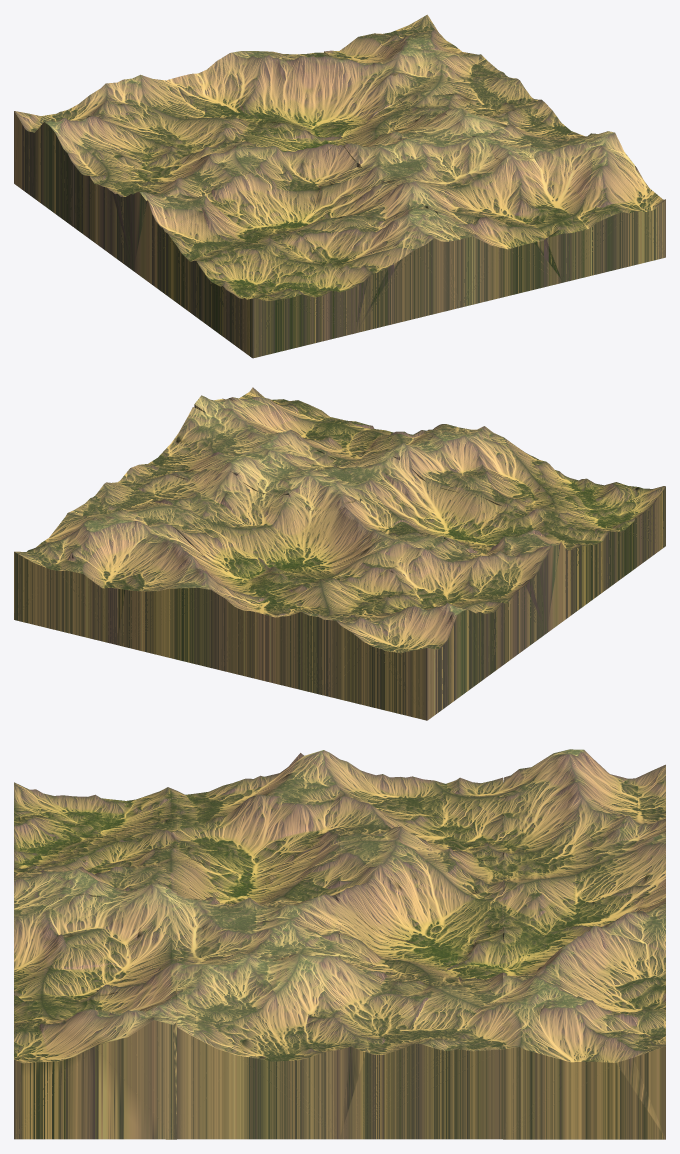
The picture shows the model from 3 angles, top to bottom: view 1: azimuth 30°, elevation 25°; view 2: azimuth 150°, elevation 25°; view 3: azimuth 270°, elevation 25°; orthographic projection. The views are drawn at different scales.
Visible parts, largest first — view 1: TerrainMesh, TerrainMesh013, TerrainMesh005, TerrainMesh009, TerrainMesh004, TerrainMesh002, TerrainMesh003, TerrainMesh012, TerrainMesh008, TerrainMesh006, TerrainMesh010, TerrainMesh015 (+4 smaller); view 2: TerrainMesh004, TerrainMesh016, TerrainMesh012, TerrainMesh008, TerrainMesh003, TerrainMesh011, TerrainMesh, TerrainMesh002, TerrainMesh005, TerrainMesh006, TerrainMesh010, TerrainMesh007 (+4 smaller); view 3: TerrainMesh014, TerrainMesh015, TerrainMesh016, TerrainMesh013, TerrainMesh009, TerrainMesh007, TerrainMesh002, TerrainMesh004, TerrainMesh008, TerrainMesh003, TerrainMesh, TerrainMesh010 (+4 smaller).
Part boxes in pixels (x1,y1,x2,y2): TerrainMesh: (193, 230, 355, 358); TerrainMesh013: (503, 131, 665, 282); TerrainMesh005: (297, 182, 459, 332); TerrainMesh009: (402, 160, 562, 307); TerrainMesh004: (14, 82, 176, 226); TerrainMesh002: (133, 176, 293, 314); TerrainMesh003: (73, 147, 236, 270); TerrainMesh012: (221, 51, 383, 129); TerrainMesh008: (117, 59, 279, 148); TerrainMesh006: (237, 145, 399, 231); TerrainMesh010: (343, 113, 502, 187); TerrainMesh015: (384, 60, 546, 117); TerrainMesh004: (324, 596, 486, 720); TerrainMesh016: (14, 510, 176, 644); TerrainMesh012: (117, 530, 279, 670); TerrainMesh008: (220, 574, 383, 695); TerrainMesh003: (385, 538, 546, 676); TerrainMesh011: (177, 476, 339, 579); TerrainMesh: (503, 474, 665, 589); TerrainMesh002: (444, 506, 606, 632); TerrainMesh005: (400, 426, 562, 505); TerrainMesh006: (340, 460, 502, 543); TerrainMesh010: (237, 435, 399, 512); TerrainMesh007: (281, 507, 442, 598); TerrainMesh014: (177, 953, 339, 1139); TerrainMesh015: (340, 958, 502, 1139); TerrainMesh016: (503, 968, 665, 1139); TerrainMesh013: (14, 962, 176, 1139); TerrainMesh009: (14, 883, 176, 1003); TerrainMesh007: (340, 828, 502, 944); TerrainMesh002: (177, 750, 339, 874); TerrainMesh004: (503, 749, 665, 860); TerrainMesh008: (503, 829, 665, 936); TerrainMesh003: (340, 759, 502, 860); TerrainMesh: (14, 782, 176, 868); TerrainMesh010: (177, 894, 339, 964).
Size of the model in its own units: 400 by 82.03 by 400.
